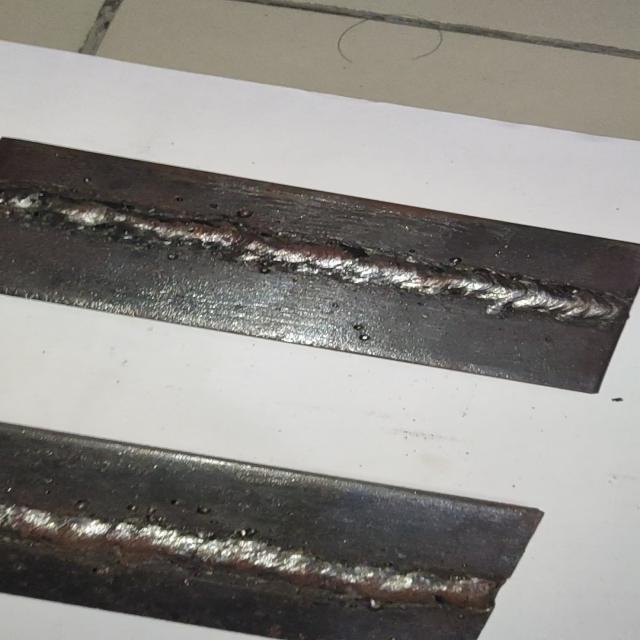Bad Weld: (0, 183, 632, 330)
Defect: (0, 180, 104, 237)
Good Weld: (0, 500, 492, 614)
